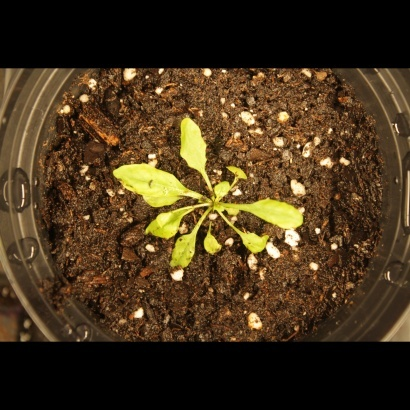leaf: (109, 160, 188, 207), (244, 190, 307, 232), (172, 111, 212, 172), (139, 206, 198, 242), (169, 229, 198, 274), (234, 227, 272, 255), (201, 226, 229, 260), (225, 157, 252, 185), (213, 177, 236, 200)
